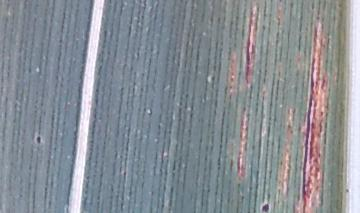tarspot: (256, 197, 273, 213), (34, 133, 44, 146)
